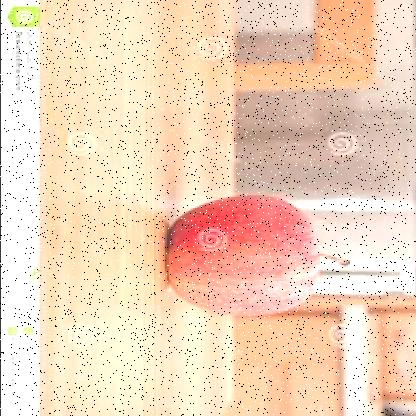apple: (161, 195, 328, 316)
